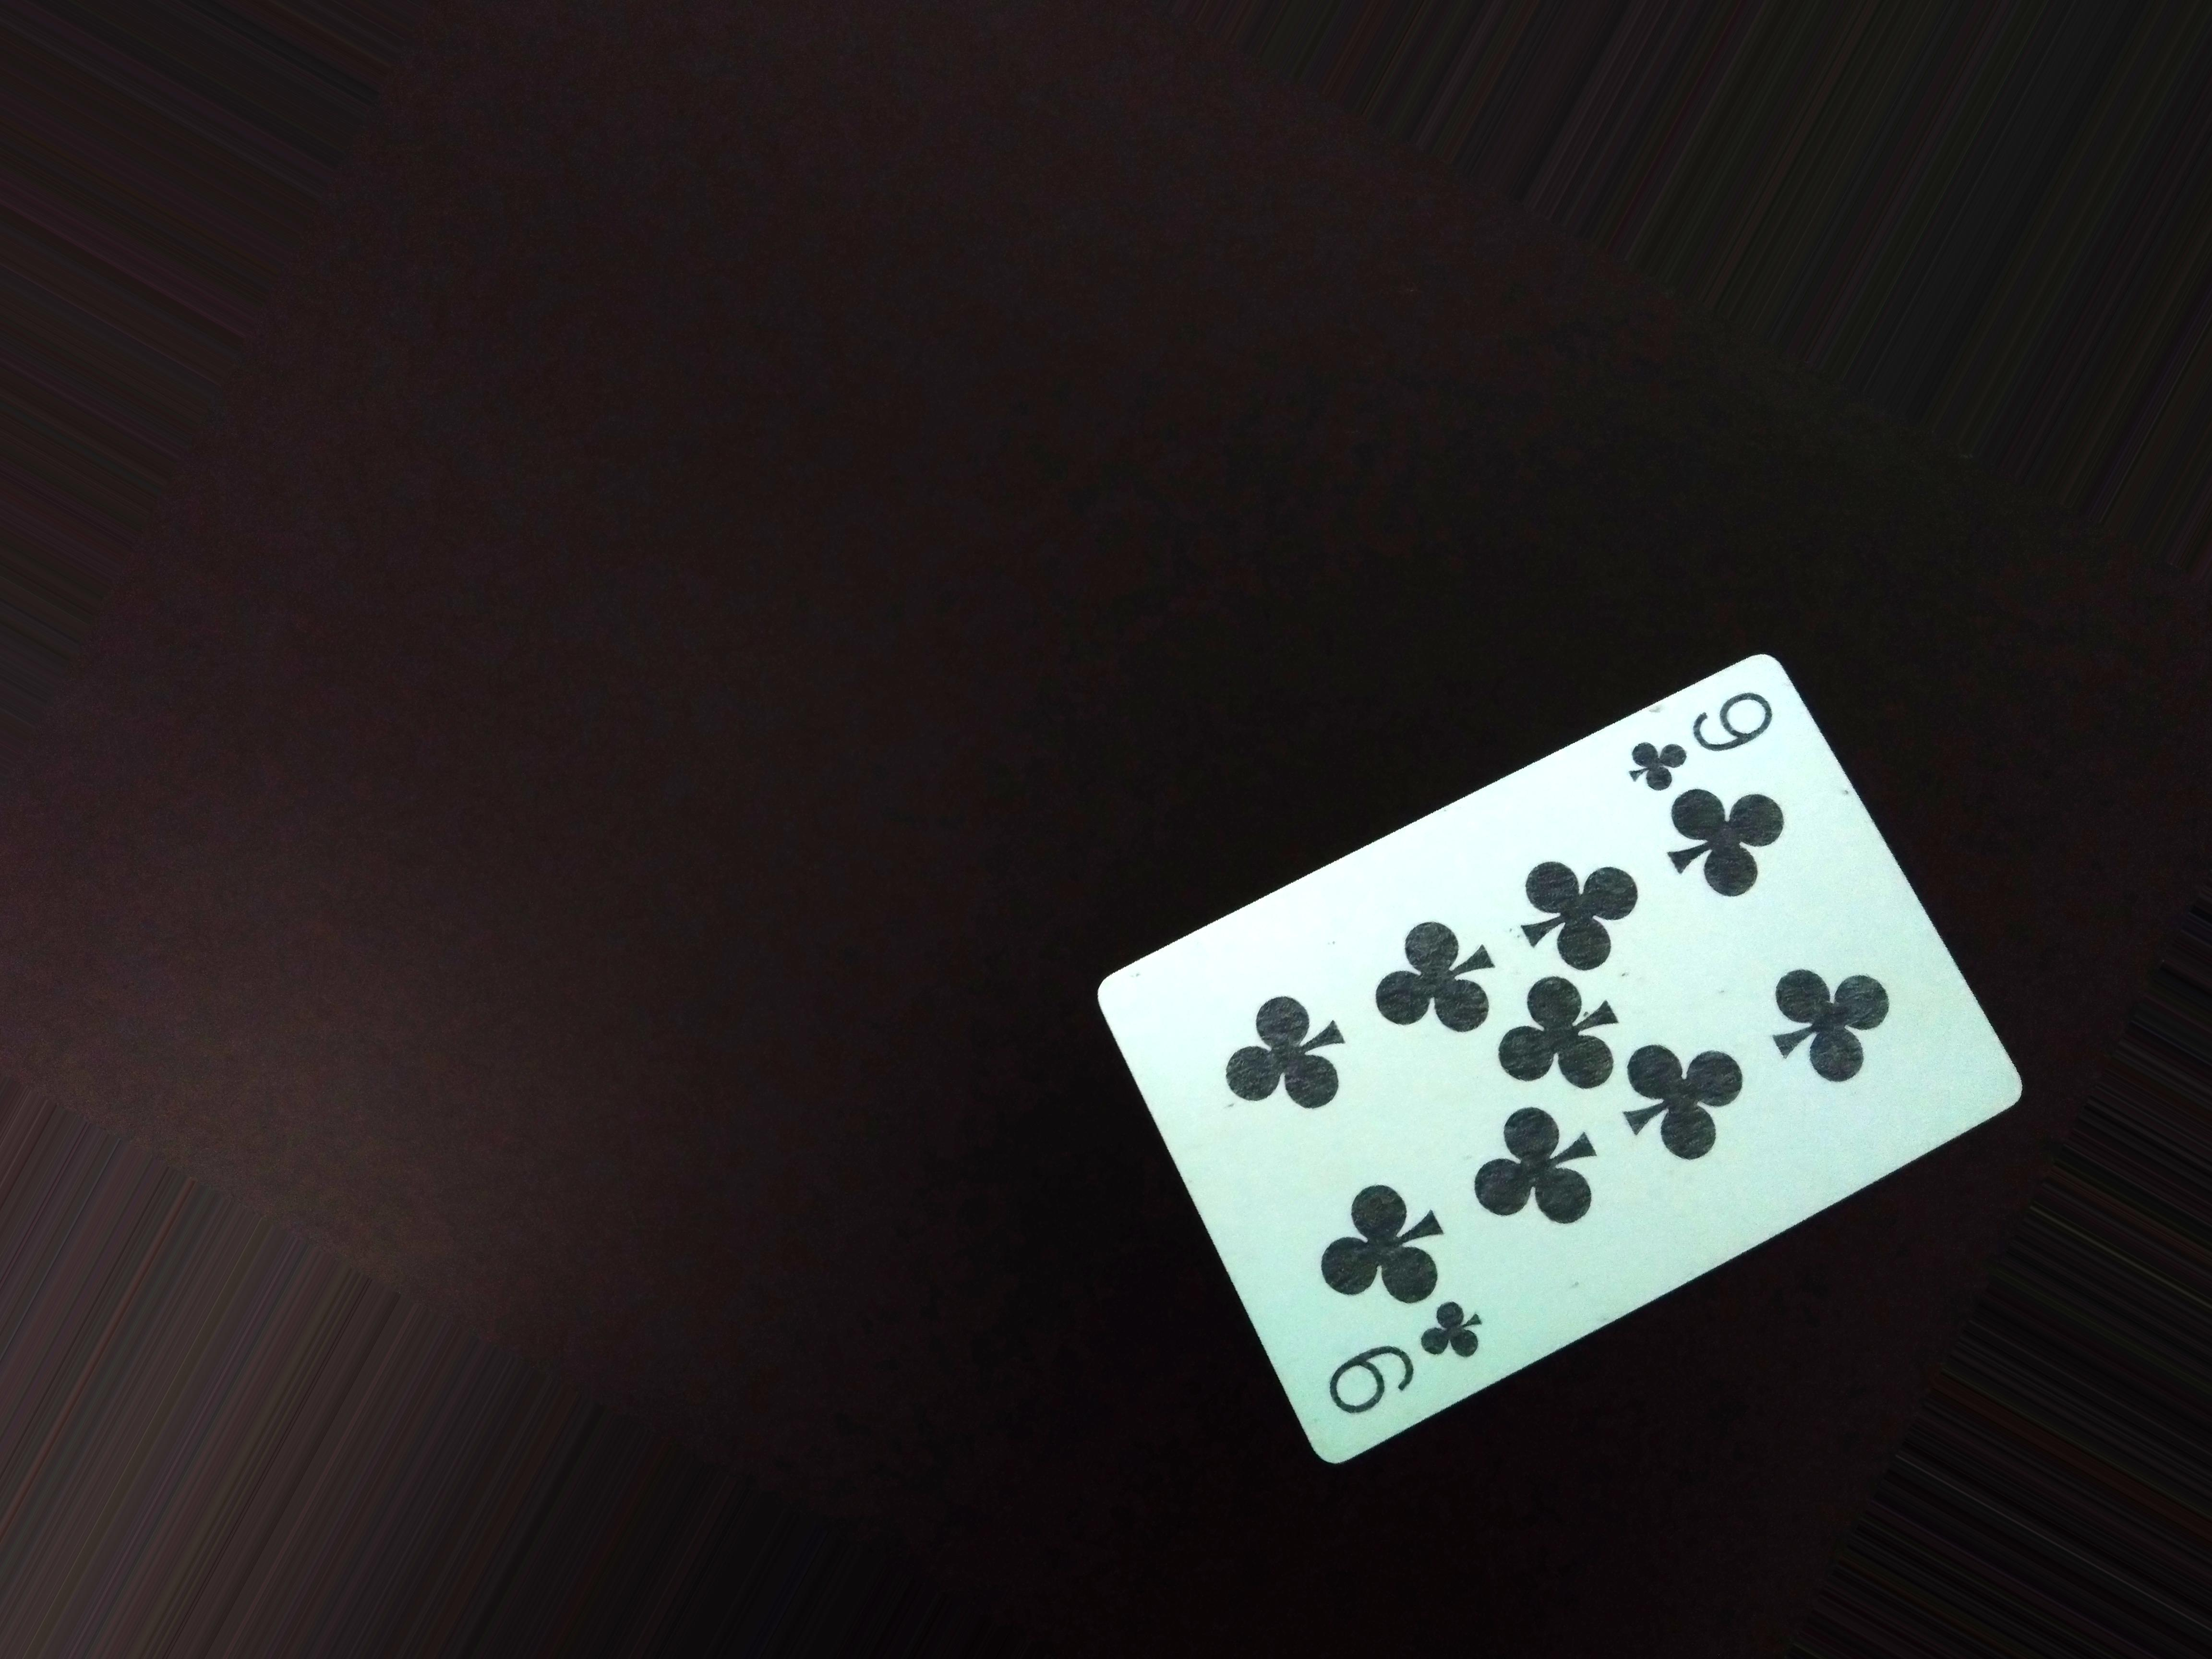9C: (1602, 685, 1787, 788)
